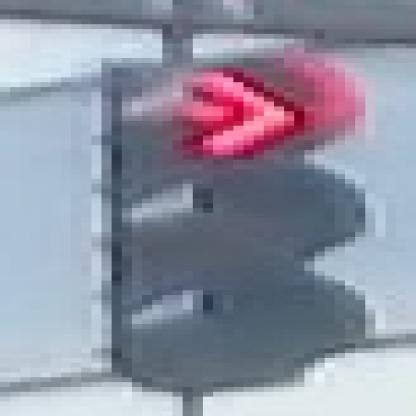Red Light: (115, 50, 364, 388)
